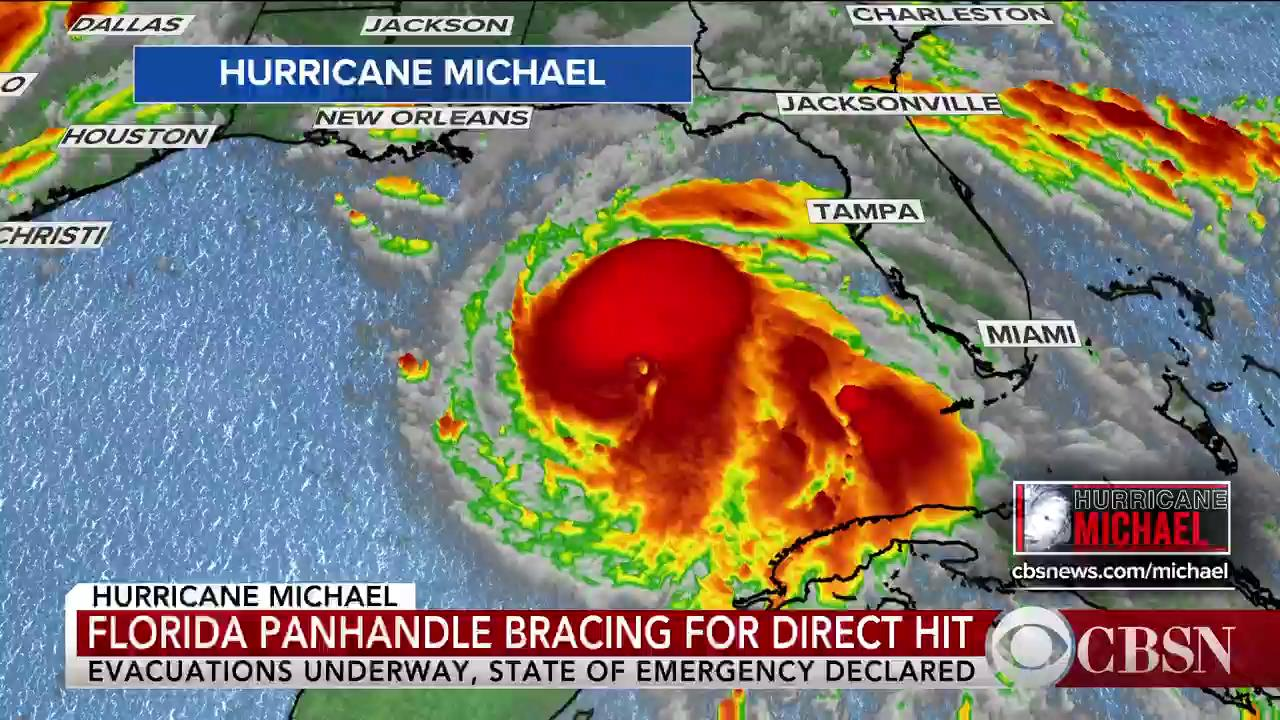CBSN: (1077, 623, 1238, 676)
CHARLESTON: (847, 3, 1054, 25)
CHRISTI: (1, 223, 107, 246)
DALLAS: (71, 13, 184, 33)
EVACUATIONS UNDERWAY__ STATE OF EMERGENCY DECLARED: (86, 656, 977, 683)
FLORIDA PANHANDLE BRACING FOR DIRECT HIT: (88, 612, 977, 653)
HOUSTON: (63, 123, 211, 147)
HURRICANE: (1074, 484, 1227, 509)
HURRICANE MICHAEL: (218, 53, 608, 85), (90, 580, 401, 608)
JACKSON: (365, 14, 506, 33)
JACKSONVILLE: (778, 92, 1003, 113)
MIAMI: (983, 320, 1078, 348)
MICHAEL: (1070, 510, 1211, 547)
NEW ORLEANS: (312, 105, 532, 126)
O: (3, 73, 27, 92)
TAMPA: (808, 197, 922, 223)
cbsnews.com/michael: (1012, 560, 1229, 582)
